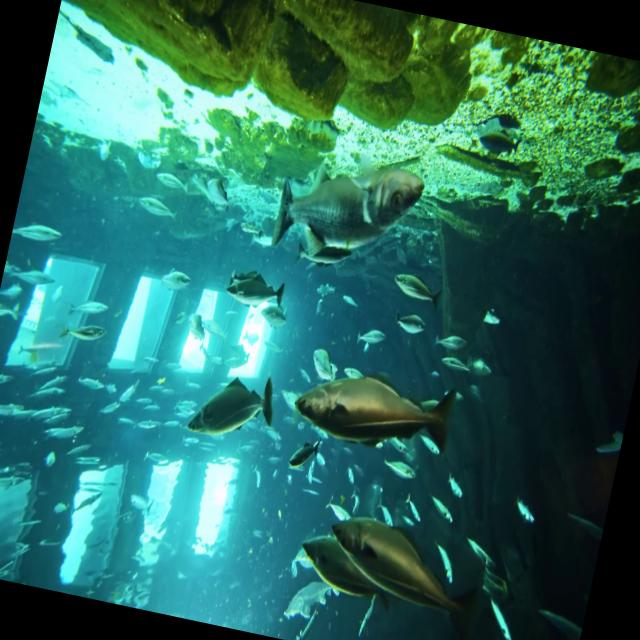fish: (315, 502, 494, 640), (288, 349, 459, 467), (266, 156, 422, 272), (287, 528, 414, 622), (184, 364, 277, 448), (227, 269, 290, 313)
